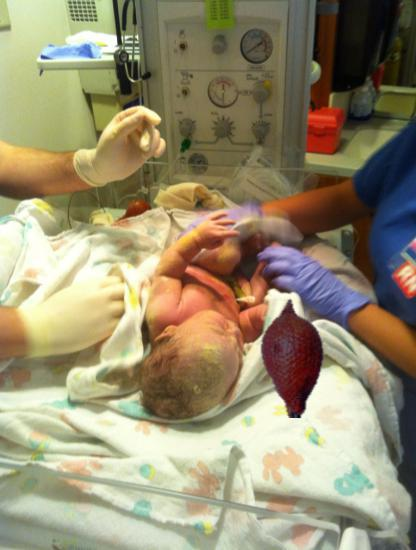Salak: (233, 299, 353, 419)
